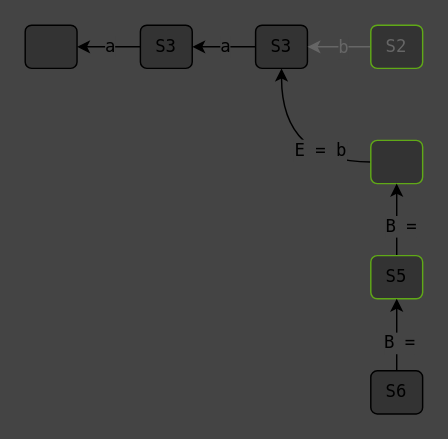
Image size: 448x439. Some labels were removed from this diagram. Each missing label, with the centre of its shape:
"S0" goes at (50,46).
"S4" goes at (396,161).
